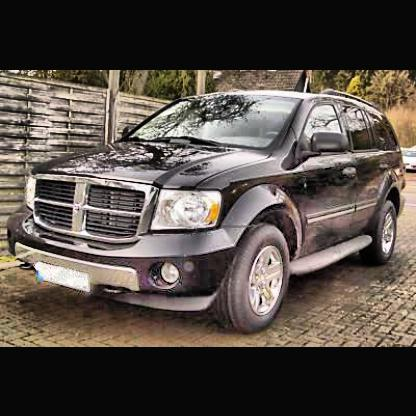Dodge Durango SUV 2007: (11, 74, 411, 338)
